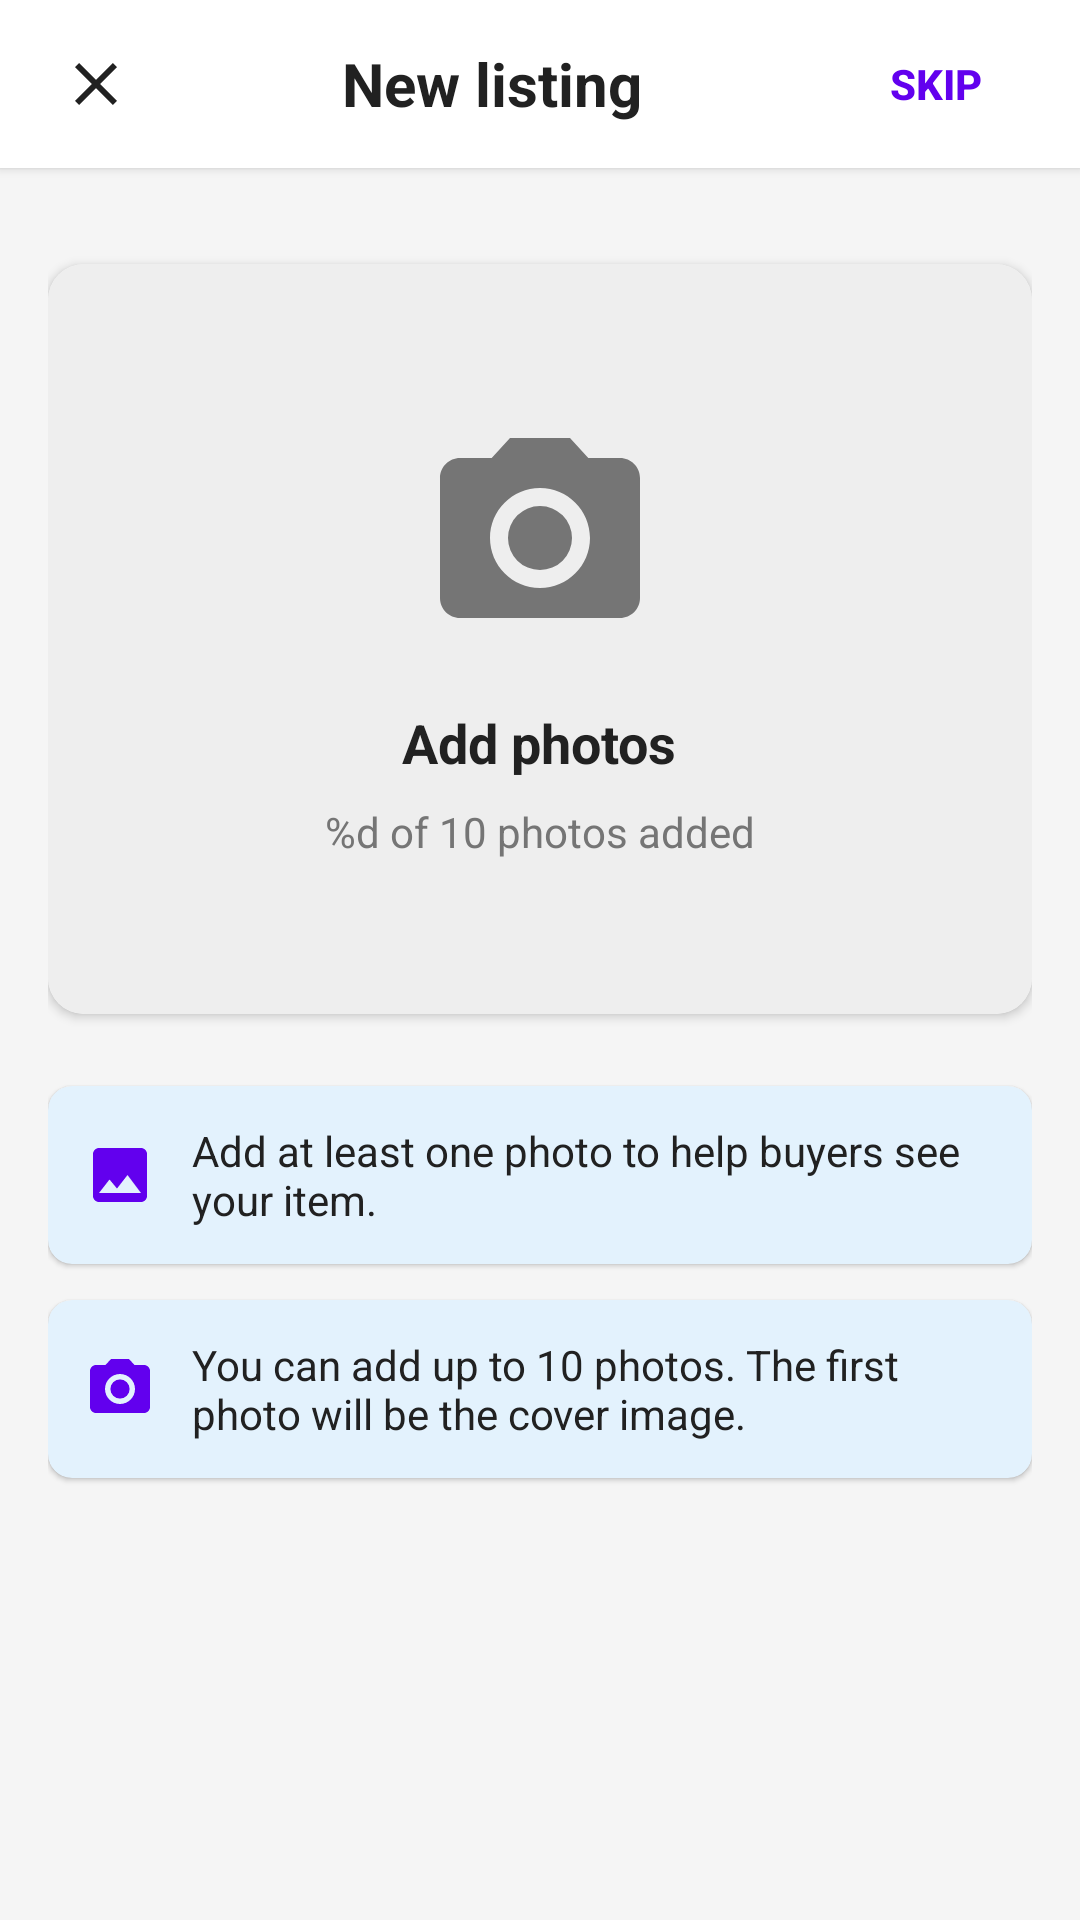

Screen size 1080w x 1920h. Icon name, then its box in pixels as (x1, y1, x2, y2):
camera: (90, 1359, 150, 1413)
Close: (75, 63, 117, 105)
